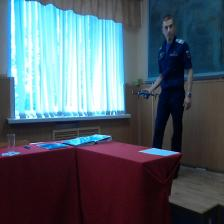drone: (127, 83, 161, 106)
